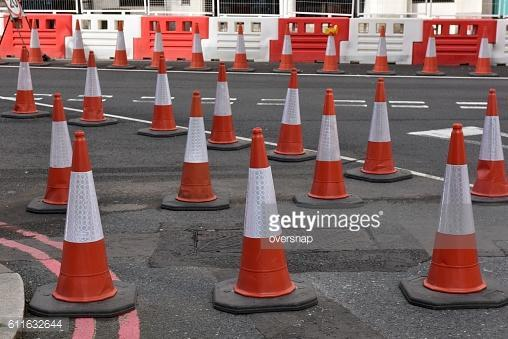Cone: (210, 124, 323, 318), (394, 122, 508, 310), (30, 129, 140, 323), (27, 91, 102, 215), (295, 87, 366, 210), (161, 89, 232, 210), (345, 78, 416, 184), (261, 67, 319, 165), (465, 86, 508, 204), (203, 60, 257, 153), (137, 53, 194, 140), (3, 44, 52, 120), (73, 49, 118, 126), (469, 25, 498, 79), (23, 18, 52, 69), (106, 19, 135, 70), (366, 25, 394, 76), (188, 21, 215, 71), (272, 26, 301, 72), (417, 26, 444, 75), (68, 19, 93, 70), (316, 31, 344, 73), (148, 22, 172, 70), (229, 24, 253, 71)
